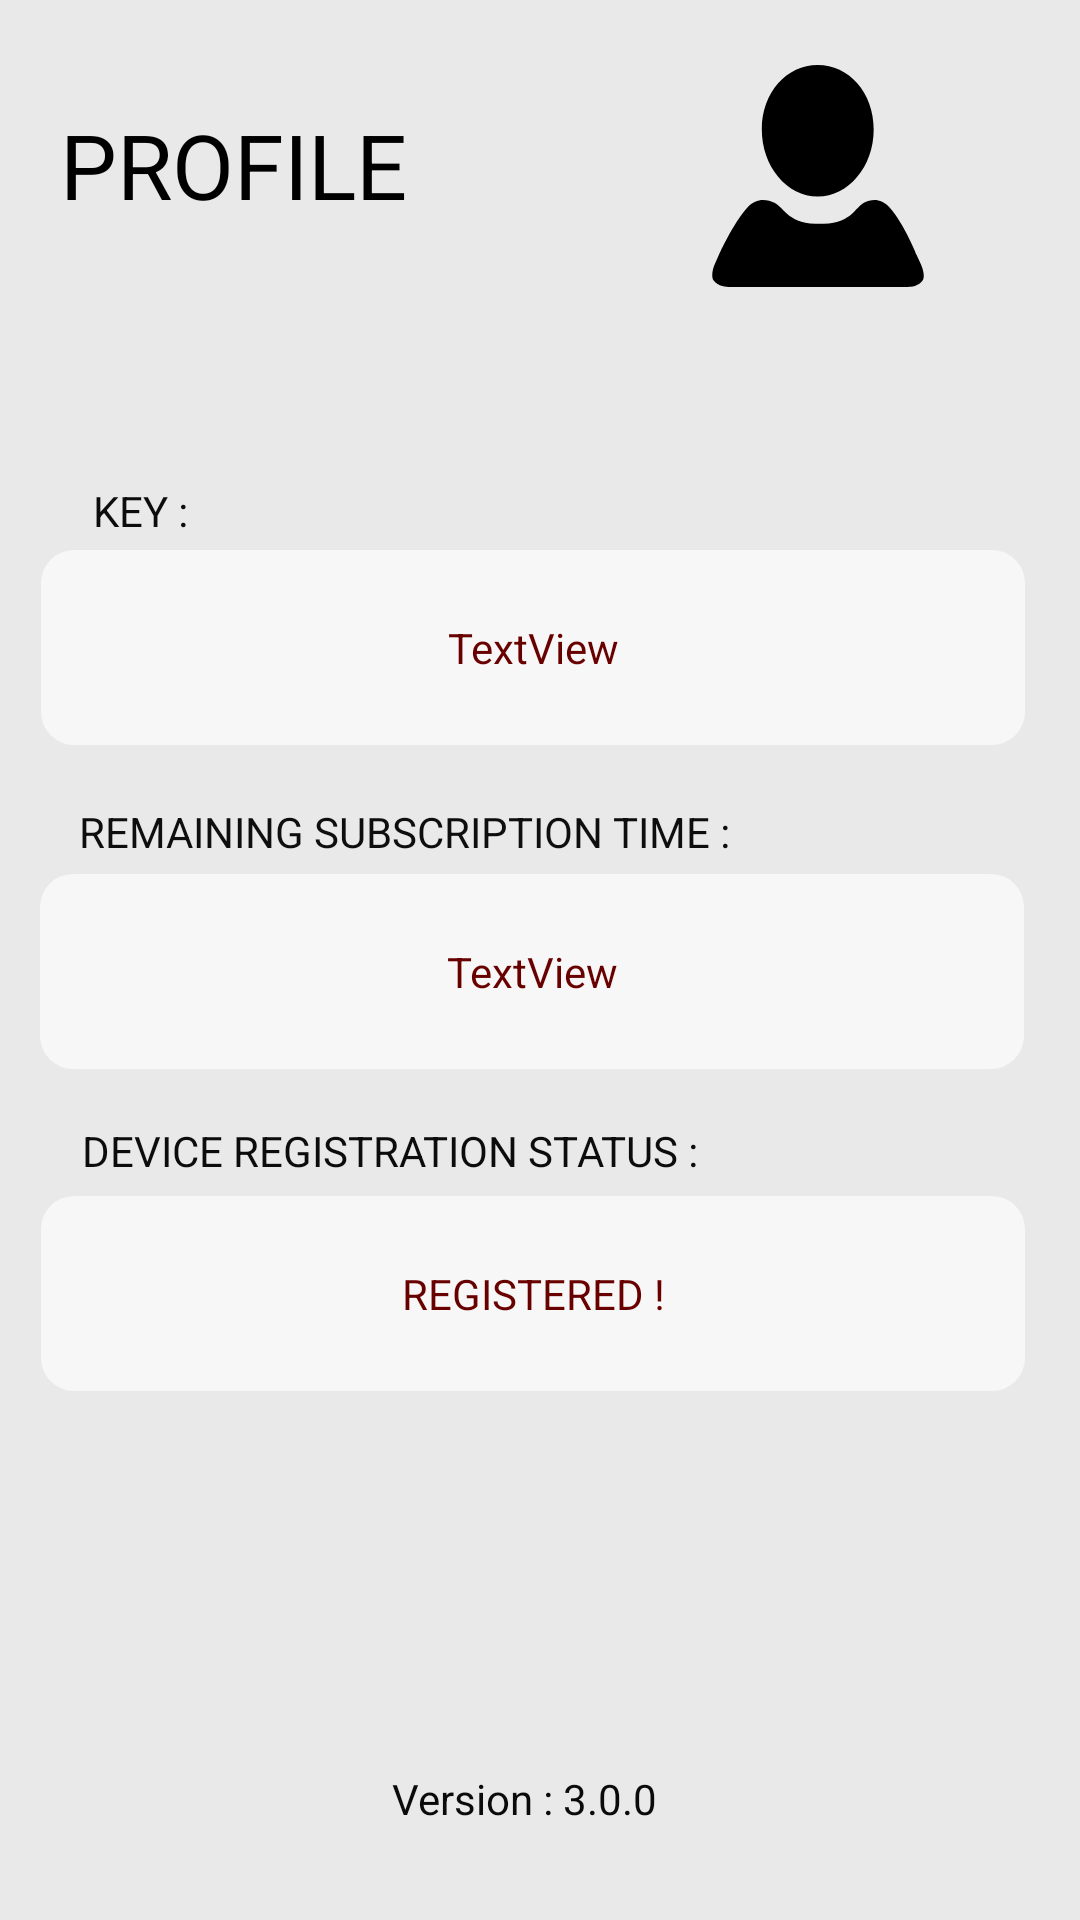

Named icons in this screenshot (1080px x 1920px) and their centers, point (x, y):
prof: point (818, 176)
